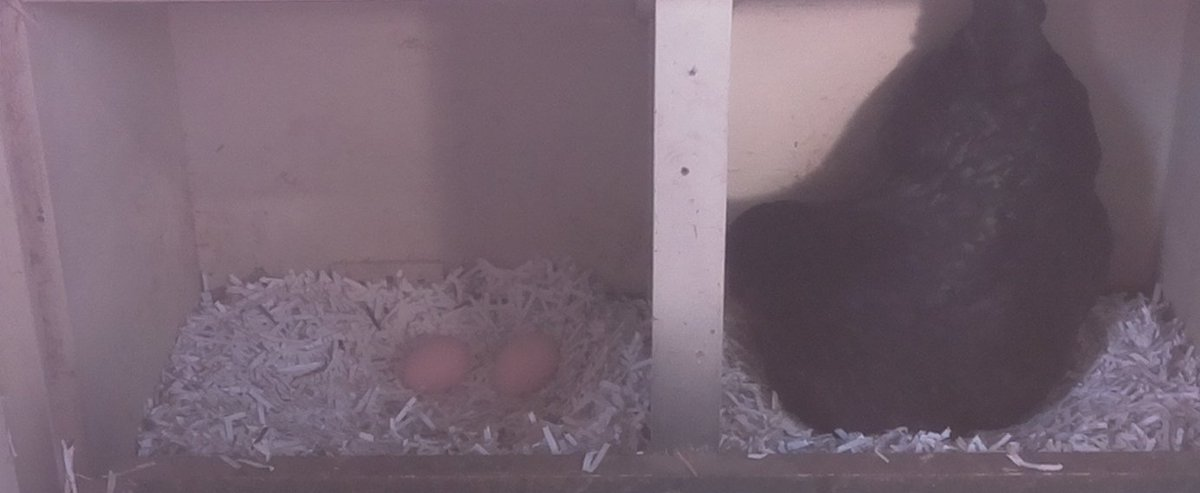egg: (487, 330, 562, 399), (399, 333, 477, 398)
hen: (730, 8, 1096, 438)
